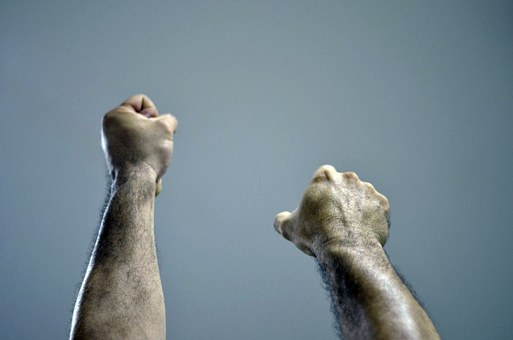fist: (103, 92, 212, 199), (284, 169, 399, 258)
